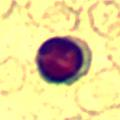lymphocyte: (35, 35, 93, 87)
